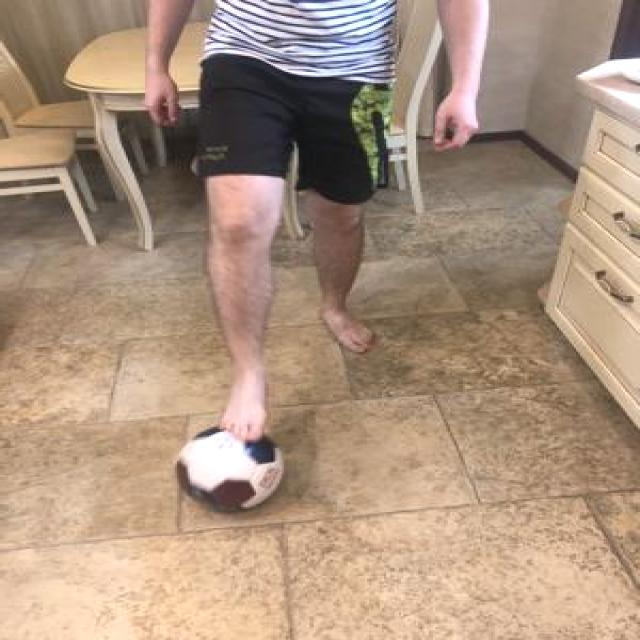Soccer Ball: (175, 418, 290, 510)
